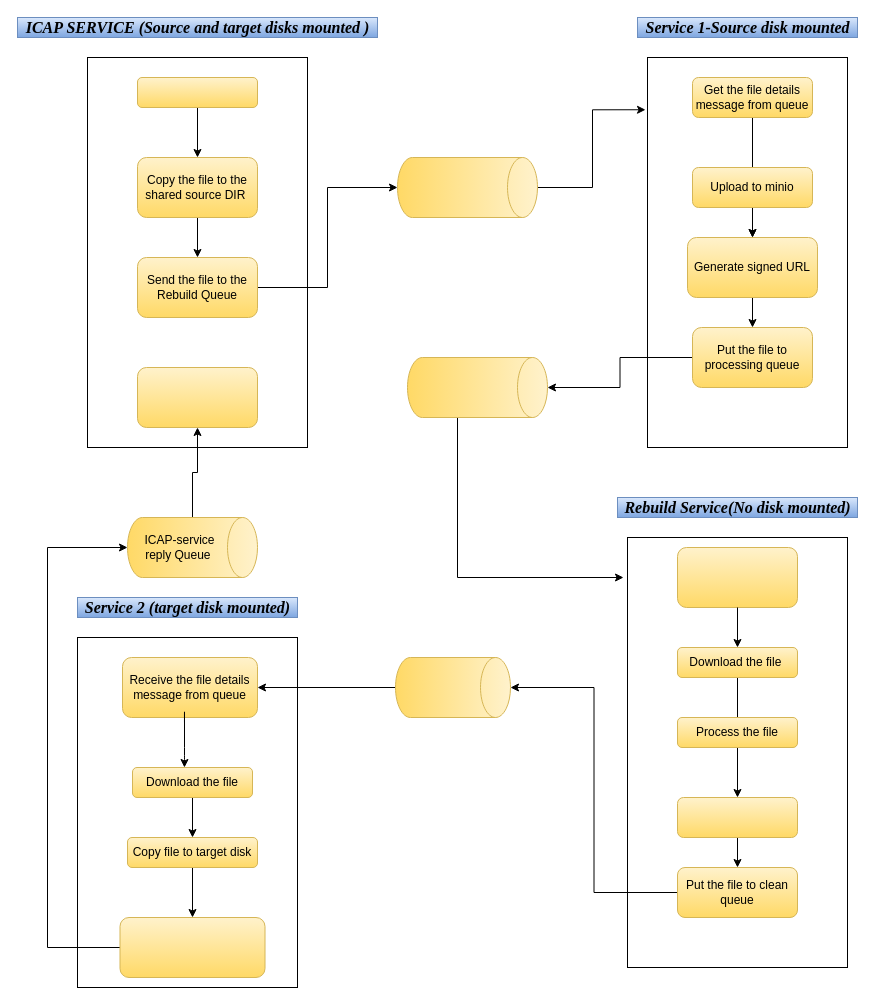
This 875x1005 diagram has some shape labels left out. The shapes that lost their labels are listed below. From the top down, each one's box as (x1, y1, x2, y2) in pixels, then its label:
(136, 76, 258, 108): Get incoming file
(396, 156, 538, 218): Adaptation Queue
(136, 366, 258, 428): Get the clean file message from the Queue
(406, 356, 548, 418): Processing queue
(676, 546, 798, 608): Recieve the file details message from the queue
(394, 656, 510, 718): Clean queue
(676, 796, 798, 838): Upload response to minio
(119, 916, 265, 978): Send response to reply icap-service reply queue
